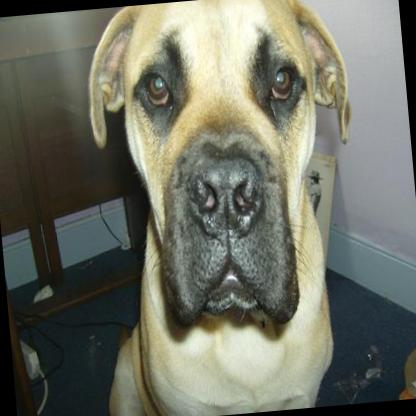bull_mastiff: (75, 0, 381, 416)
